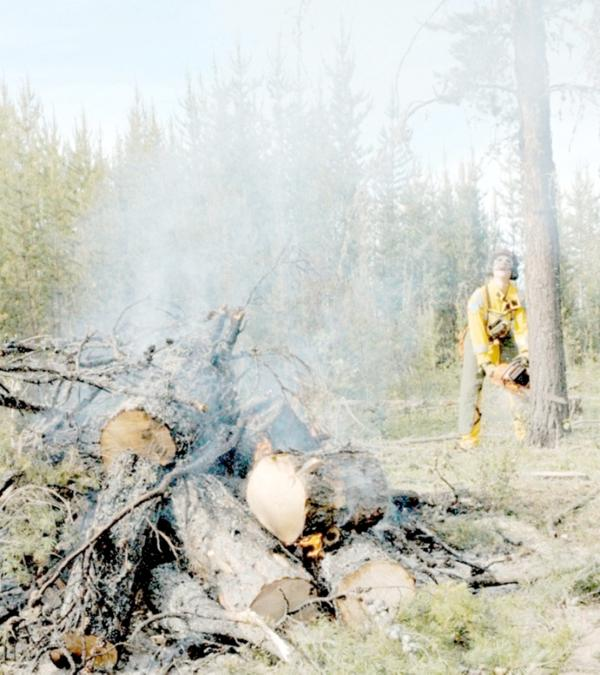person: (460, 254, 532, 459)
